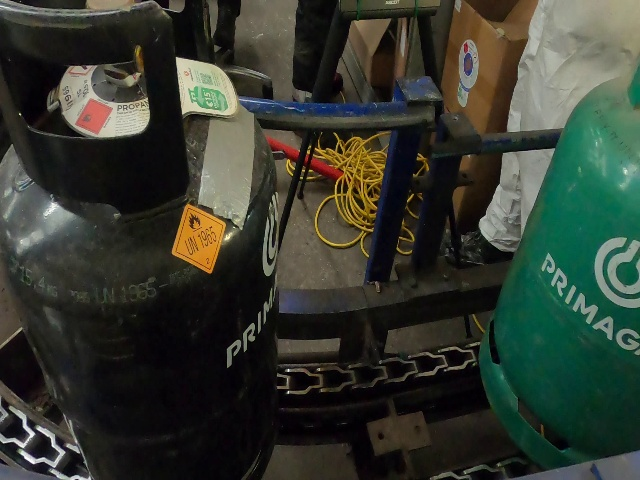gas_bottle: (3, 3, 640, 480)
